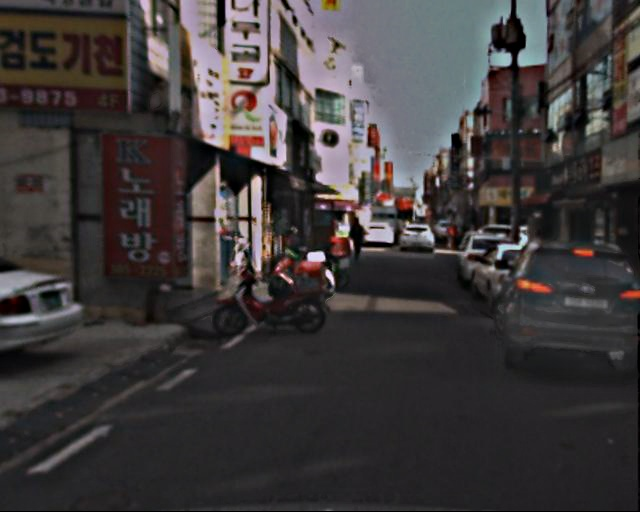person: (347, 213, 368, 263), (442, 222, 462, 254)
